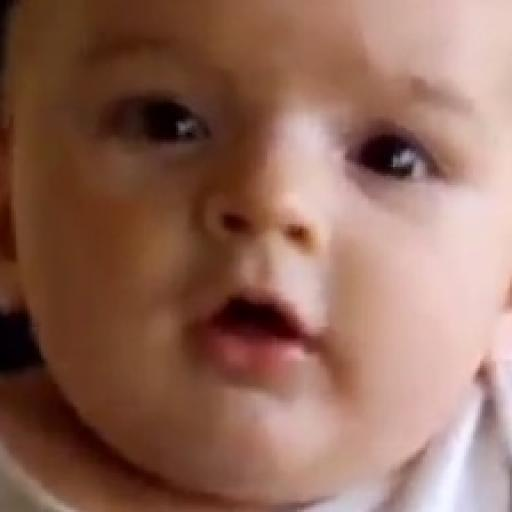Autism: (13, 2, 499, 502)
